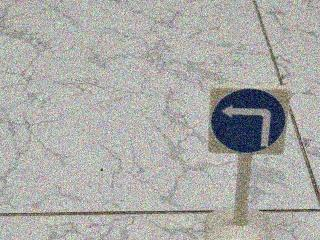left: (206, 85, 289, 156)
